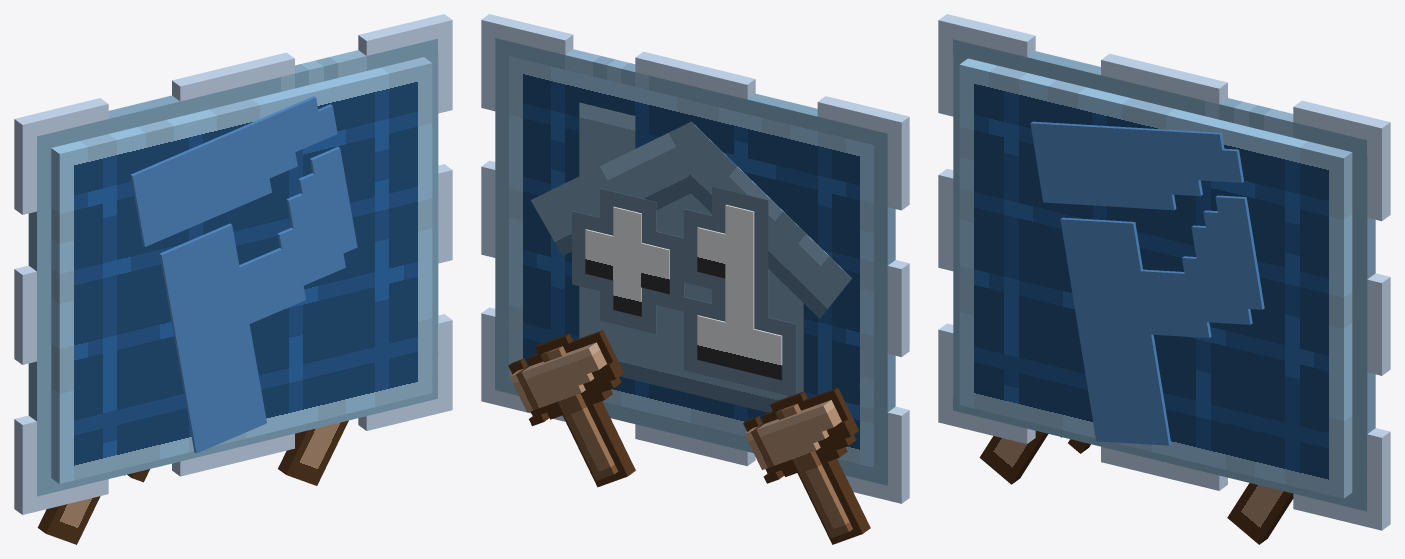
3 views of the same model, side by side, from view 1: azimuth 30°, elevation 25°; view 2: azimuth 150°, elevation 25°; view 3: azimuth 330°, elevation 25° (orthographic). The views are drawn at different scales.
Visible parts, largest first — view 1: plan-Local, backp-Local, skull02$$(2)-Local, skull3$$(1)-Local; view 2: plan-Local, icon_border-Local, icon-Local, house_body-Local, skull02$$(2)-Local, skull3$$(1)-Local, house_roof_2-Local, house_roof_1-Local; view 3: plan-Local, backp-Local, skull02$$(2)-Local, skull3$$(1)-Local.
Boxes of the visible parts, x1,y1,x2,y2 form: plan-Local: (14,14,452,514); backp-Local: (130,96,357,453); skull02$$(2)-Local: (278,420,348,485); skull3$$(1)-Local: (37,469,149,544); plan-Local: (481,14,909,503); icon_border-Local: (572,186,796,396); icon-Local: (585,204,782,380); house_body-Local: (579,102,803,412); skull02$$(2)-Local: (508,330,635,487); skull3$$(1)-Local: (743,387,870,544); house_roof_2-Local: (675,121,851,318); house_roof_1-Local: (530,122,697,255); plan-Local: (938,14,1390,530); backp-Local: (1030,121,1264,445); skull02$$(2)-Local: (1227,483,1293,544); skull3$$(1)-Local: (979,431,1090,484).
Size of the model in its own units: 60 by 58.83 by 7.52.
9 materials, 9 textured.
